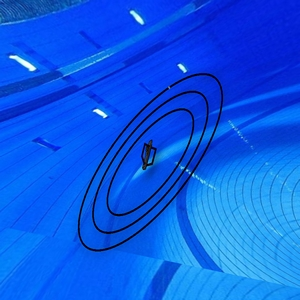circle: (63, 72, 248, 255)
submarine: (139, 139, 159, 175)
